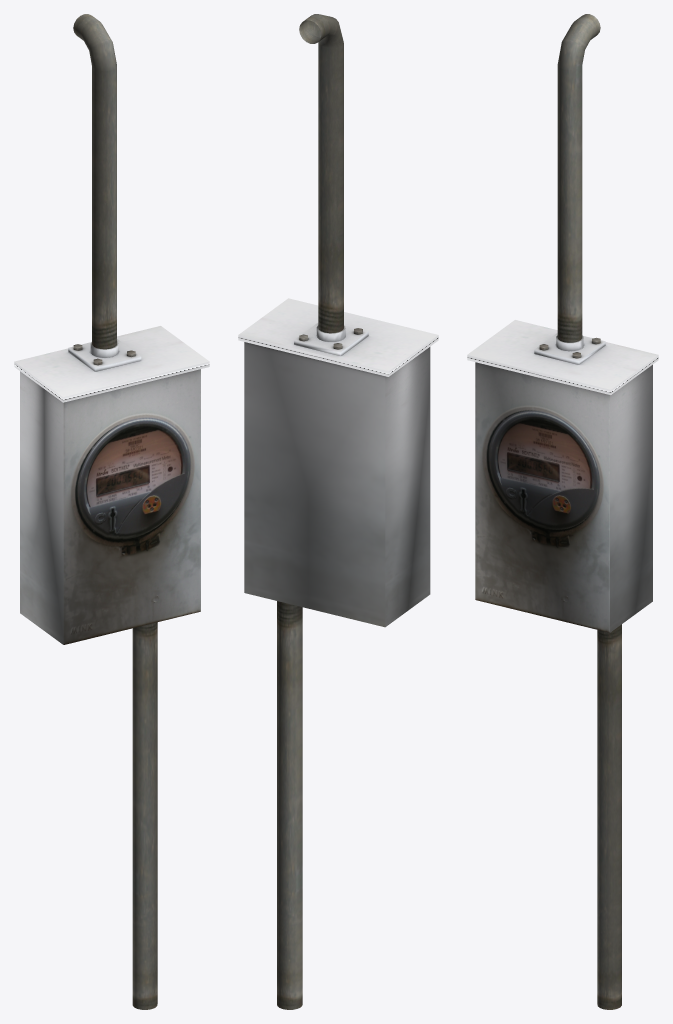
File: fuse_box_0007.fbx
The picture shows the model from 3 angles, left to right: view 1: azimuth 30°, elevation 25°; view 2: azimuth 150°, elevation 25°; view 3: azimuth 330°, elevation 25°; orthographic projection. The views are drawn at different scales.
Parts seen in each view (by area): view 1: Mesh; view 2: Mesh; view 3: Mesh.
Part boxes in pixels (box(x1,y1,x2,y2)): Mesh: box(14, 14, 209, 1009); Mesh: box(238, 14, 438, 1009); Mesh: box(467, 14, 658, 1009).
Size of the model in its own units: 35.76 by 230 by 21.99.
